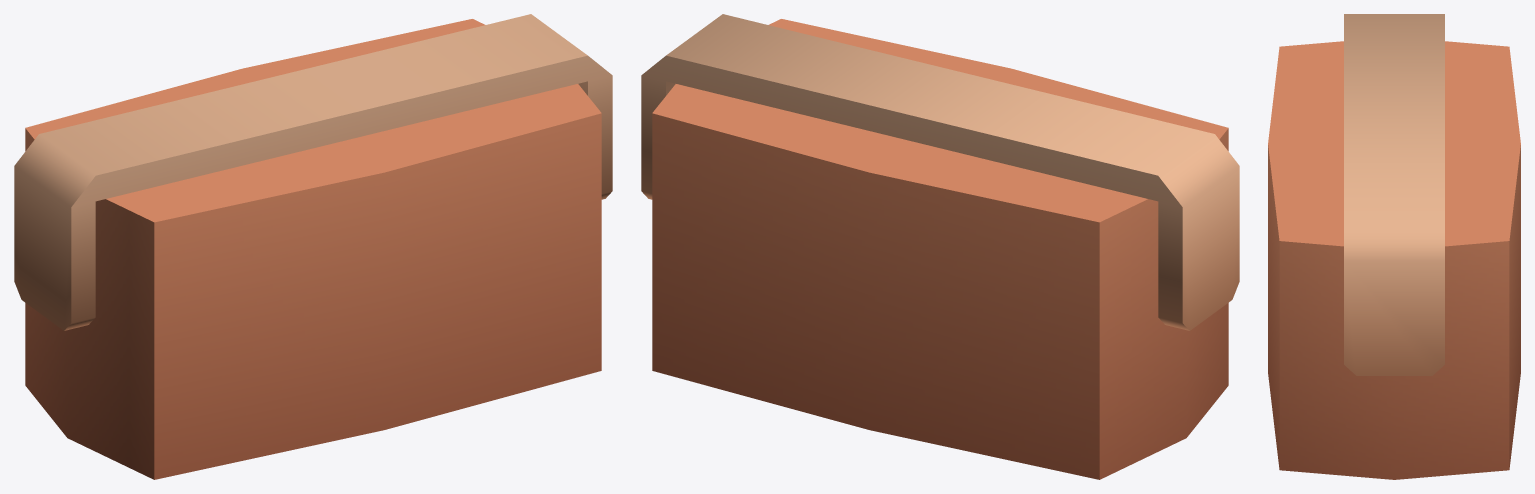
Rendered from factory_box_long.glb.
The picture shows the model from 3 angles, left to right: view 1: azimuth 30°, elevation 25°; view 2: azimuth 150°, elevation 25°; view 3: azimuth 270°, elevation 25°; orthographic projection. The views are drawn at different scales.
Visible parts, largest first — view 1: box-long; view 2: box-long; view 3: box-long.
Part boxes in pixels (<box>): box-long: <box>14,14,612,479</box>; box-long: <box>641,14,1239,479</box>; box-long: <box>1268,14,1520,479</box>.
Bounding box in the file's own units: 1.8 × 0.9 × 0.8182.
1 material, 1 textured.
